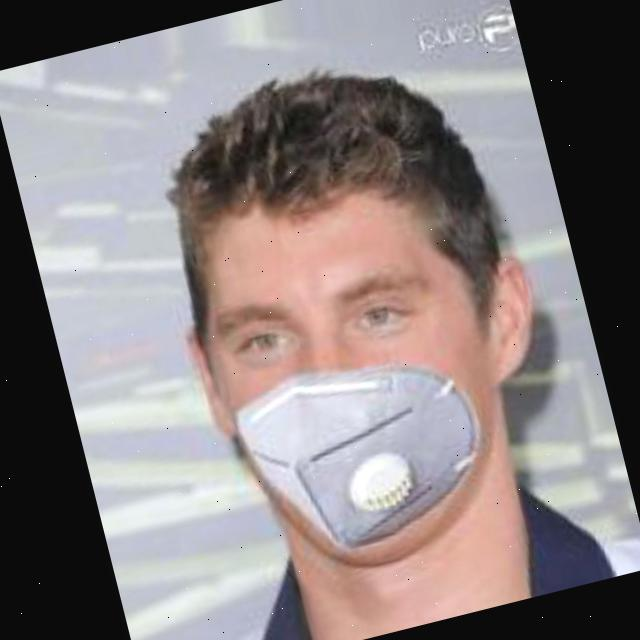suspicion: (152, 76, 558, 602)
